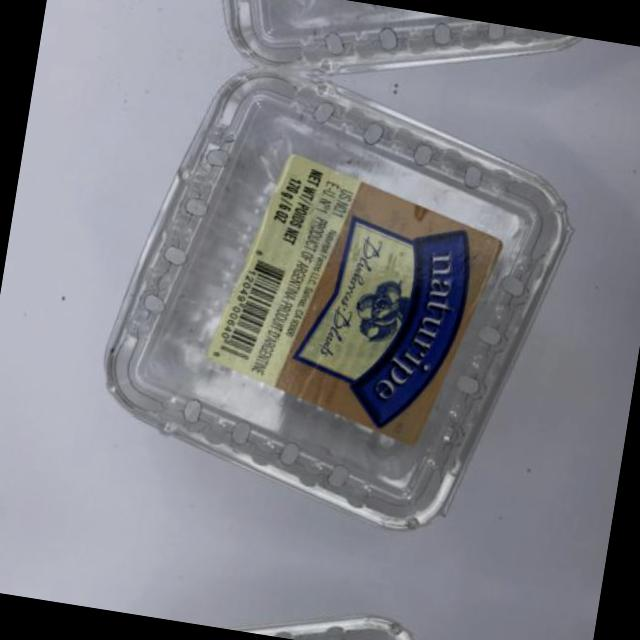Plastic: (67, 47, 580, 564), (137, 0, 592, 117), (49, 549, 500, 640)
